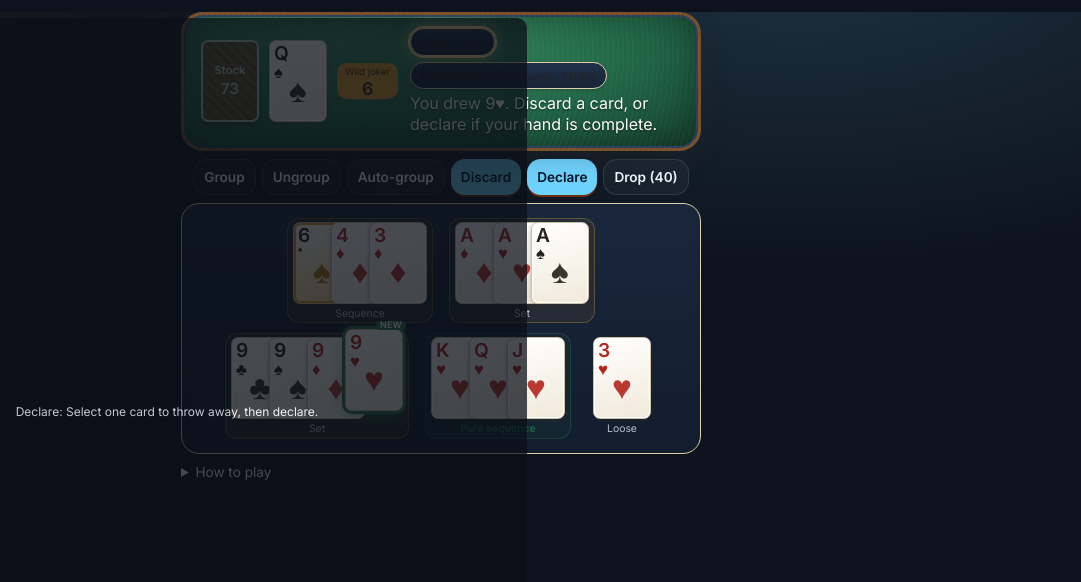
Test: Rummy › carries points to the next deal instead of restarting, and reports the pool once under StrictMode
The image size is (1081, 582).
Click the button "3 ♥": (622, 378) [593,337,651,419]
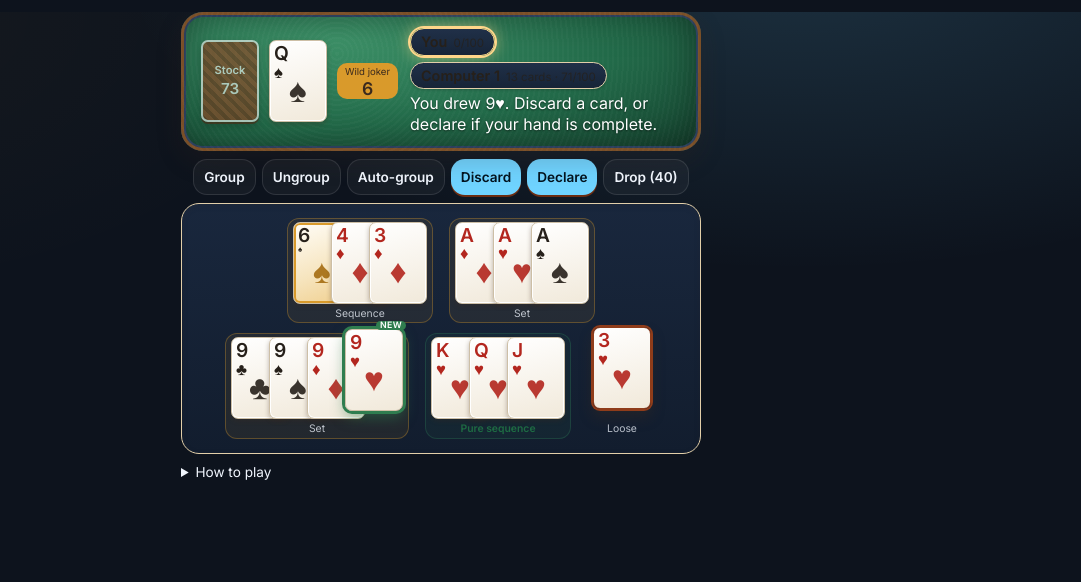
Click the button "Declare": (562, 177) [527,159,597,195]
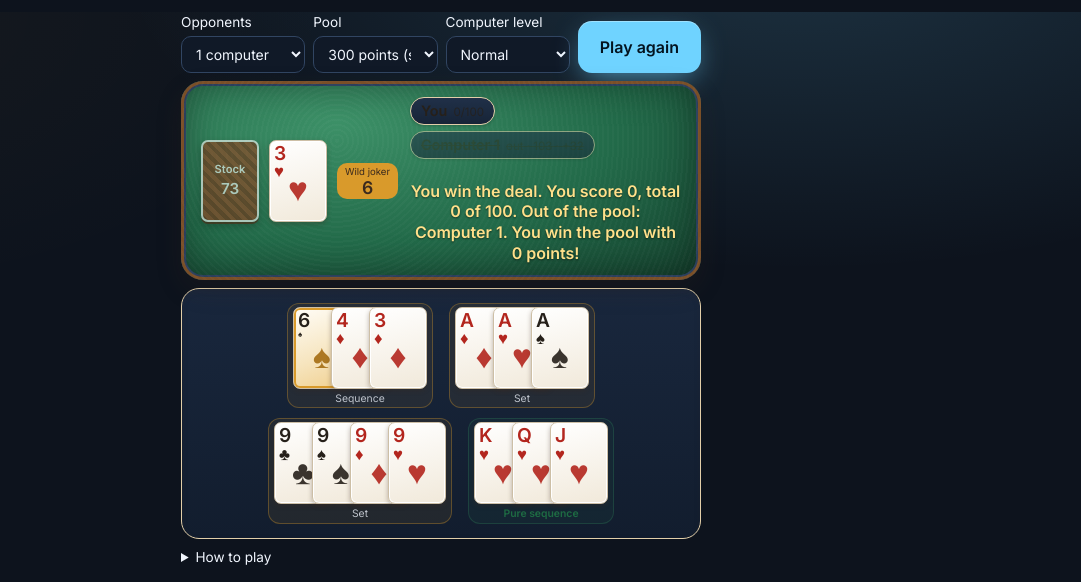
Check: the button "Play again" is shown, box [578,21,701,73]
Check: the message shows "You win the pool", box [411,181,680,263]
